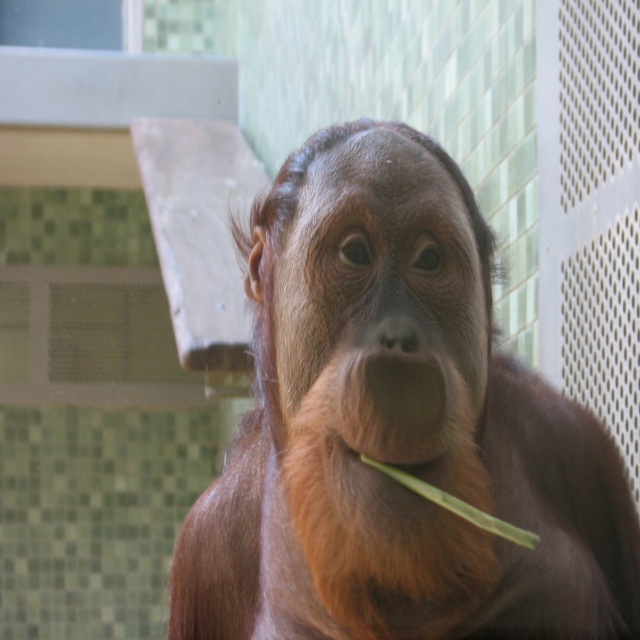Monkey: (166, 121, 640, 639)
